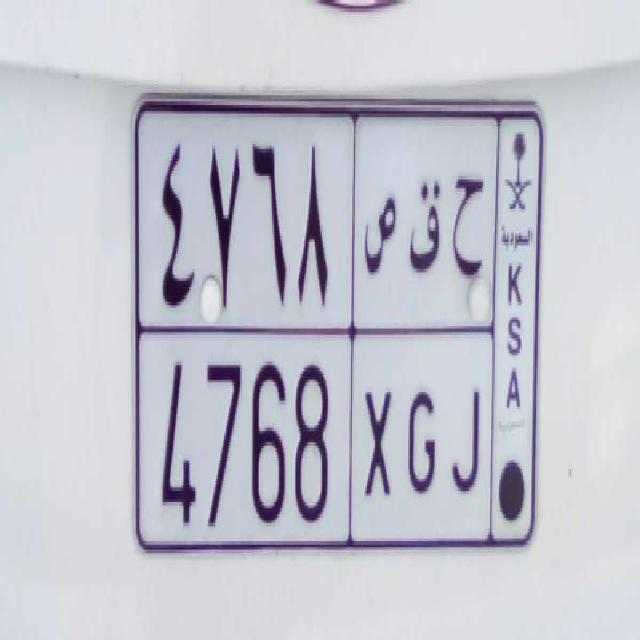license_plate: (138, 326, 492, 546)
